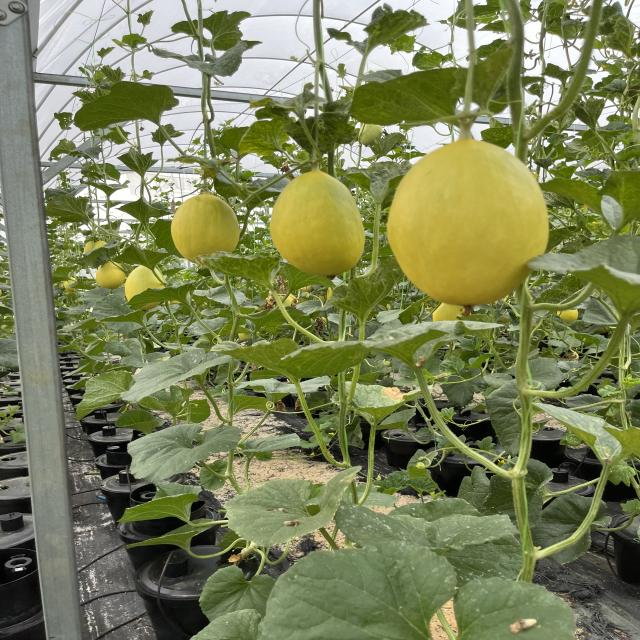SLCV: (330, 256, 405, 320), (191, 251, 282, 291)
alternaria leaf blight: (331, 382, 421, 426)
downy mildew: (222, 466, 362, 546), (529, 402, 640, 464), (238, 116, 298, 157)
healthy: (257, 542, 576, 640), (126, 424, 242, 482), (71, 80, 179, 134), (198, 566, 276, 620), (116, 483, 203, 523), (170, 10, 252, 50), (190, 609, 262, 640)
powdery mildew: (334, 500, 524, 581), (120, 349, 232, 402), (237, 433, 301, 457)
